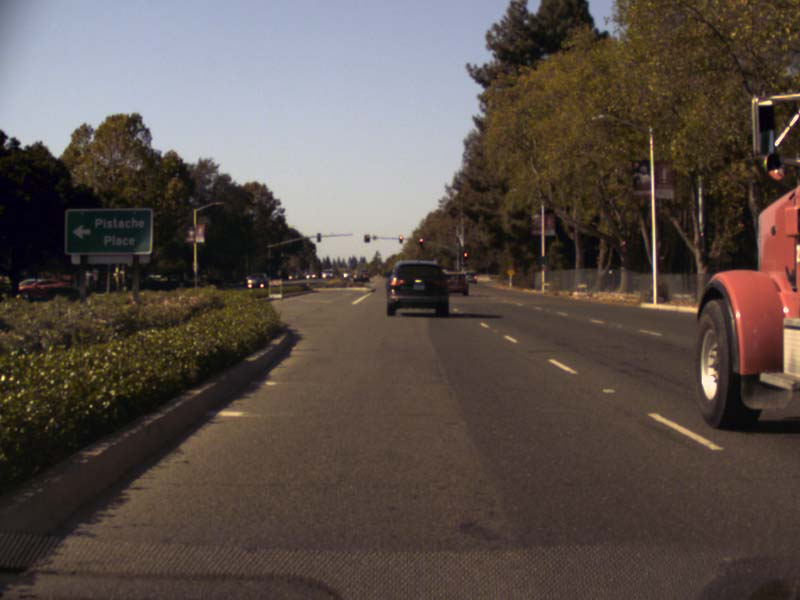Red: (418, 237, 423, 245), (364, 234, 369, 242), (398, 235, 402, 243), (463, 251, 467, 257)
